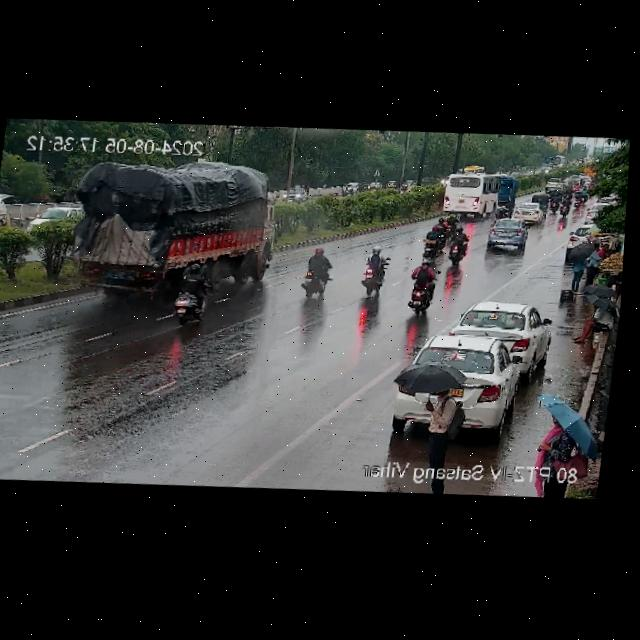bus: (434, 167, 517, 220)
car: (388, 326, 541, 444), (446, 296, 552, 359), (23, 200, 75, 236), (481, 219, 529, 254), (507, 200, 547, 224), (281, 185, 309, 207), (565, 224, 588, 248), (565, 172, 591, 186), (544, 176, 563, 192), (528, 190, 551, 203)
motorcycle: (400, 257, 441, 316), (172, 269, 214, 322), (295, 247, 338, 296), (418, 213, 462, 260), (357, 245, 396, 296), (445, 218, 471, 264), (548, 190, 571, 218), (568, 185, 591, 211), (339, 181, 356, 198)
person: (414, 376, 468, 460), (573, 289, 620, 344), (538, 410, 582, 465), (565, 239, 605, 292)
truck: (68, 151, 283, 304)
